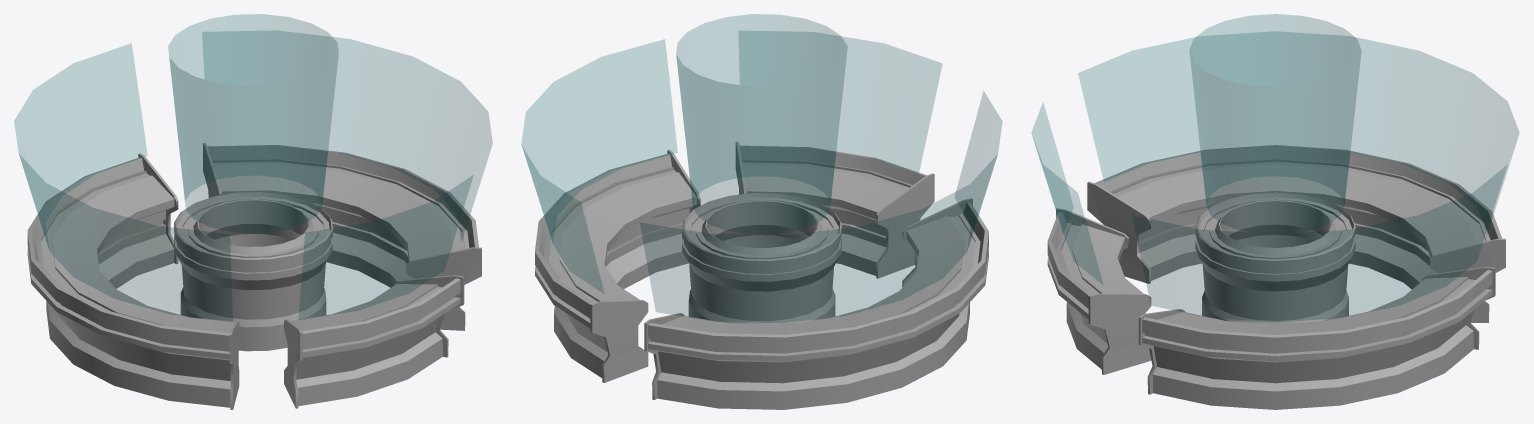
File: Twinstick Holodesk.fbx
3 renders of one model, left to right at view 1: azimuth 30°, elevation 25°; view 2: azimuth 150°, elevation 25°; view 3: azimuth 270°, elevation 25°, orthographic.
Parts seen in each view (by area): view 1: polySurface32; view 2: polySurface32; view 3: polySurface32.
Part boxes in pixels (box(x1,y1,x2,y2)): polySurface32: box(14, 14, 492, 409); polySurface32: box(521, 14, 1002, 409); polySurface32: box(1032, 14, 1518, 409).
Size of the model in its own units: 4.54 by 2.82 by 4.61.
